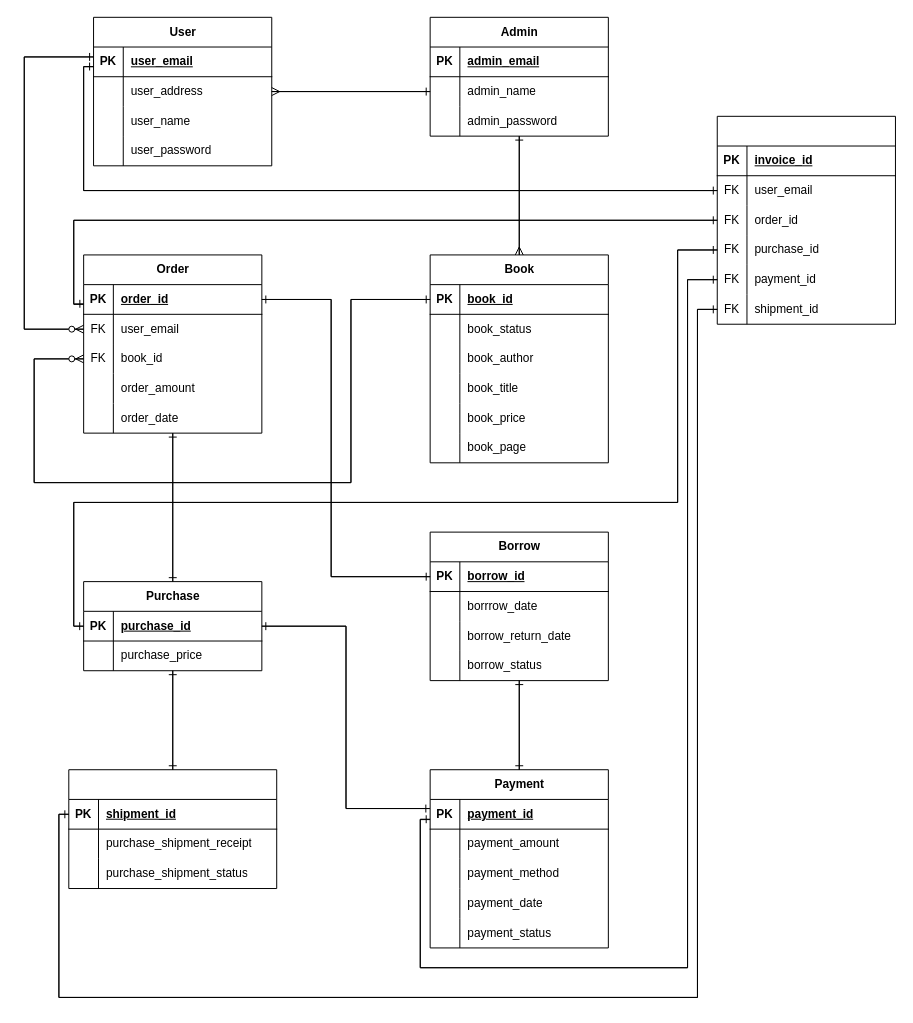
The diagram is 913 pixels wide and 1023 high, and some of its shapes have lost their labels. The box of each missing label's shape, as (x1, y1, x2, y2) in pixels:
Shipment Details: (68, 769, 277, 889)
Transaction: (716, 115, 895, 324)
